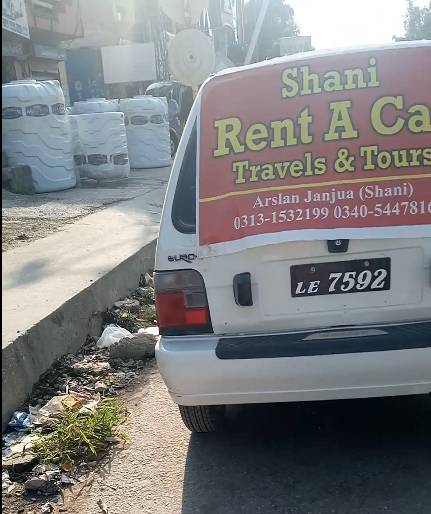number_plate: (288, 263, 396, 300)
